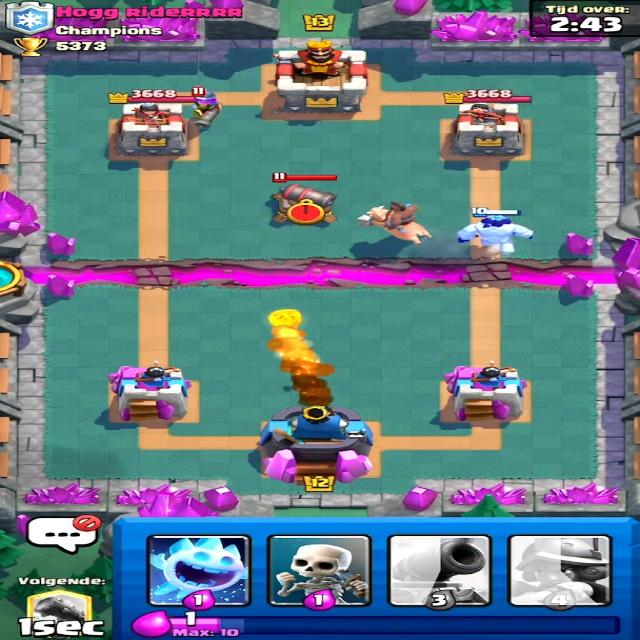Cannon_Card: (385, 537, 488, 606)
Enemy_Musketeer_Troop: (184, 86, 226, 137)
Fireball_Troop: (259, 304, 316, 336)
Hog_Rider_Troop: (355, 197, 435, 247)
Ice_Golem_Troop: (459, 212, 539, 250)
Ice_Spirit_Card: (149, 533, 250, 604)
Musketeer_Card: (504, 535, 611, 605)
Skeleton_Card: (270, 537, 370, 608)
